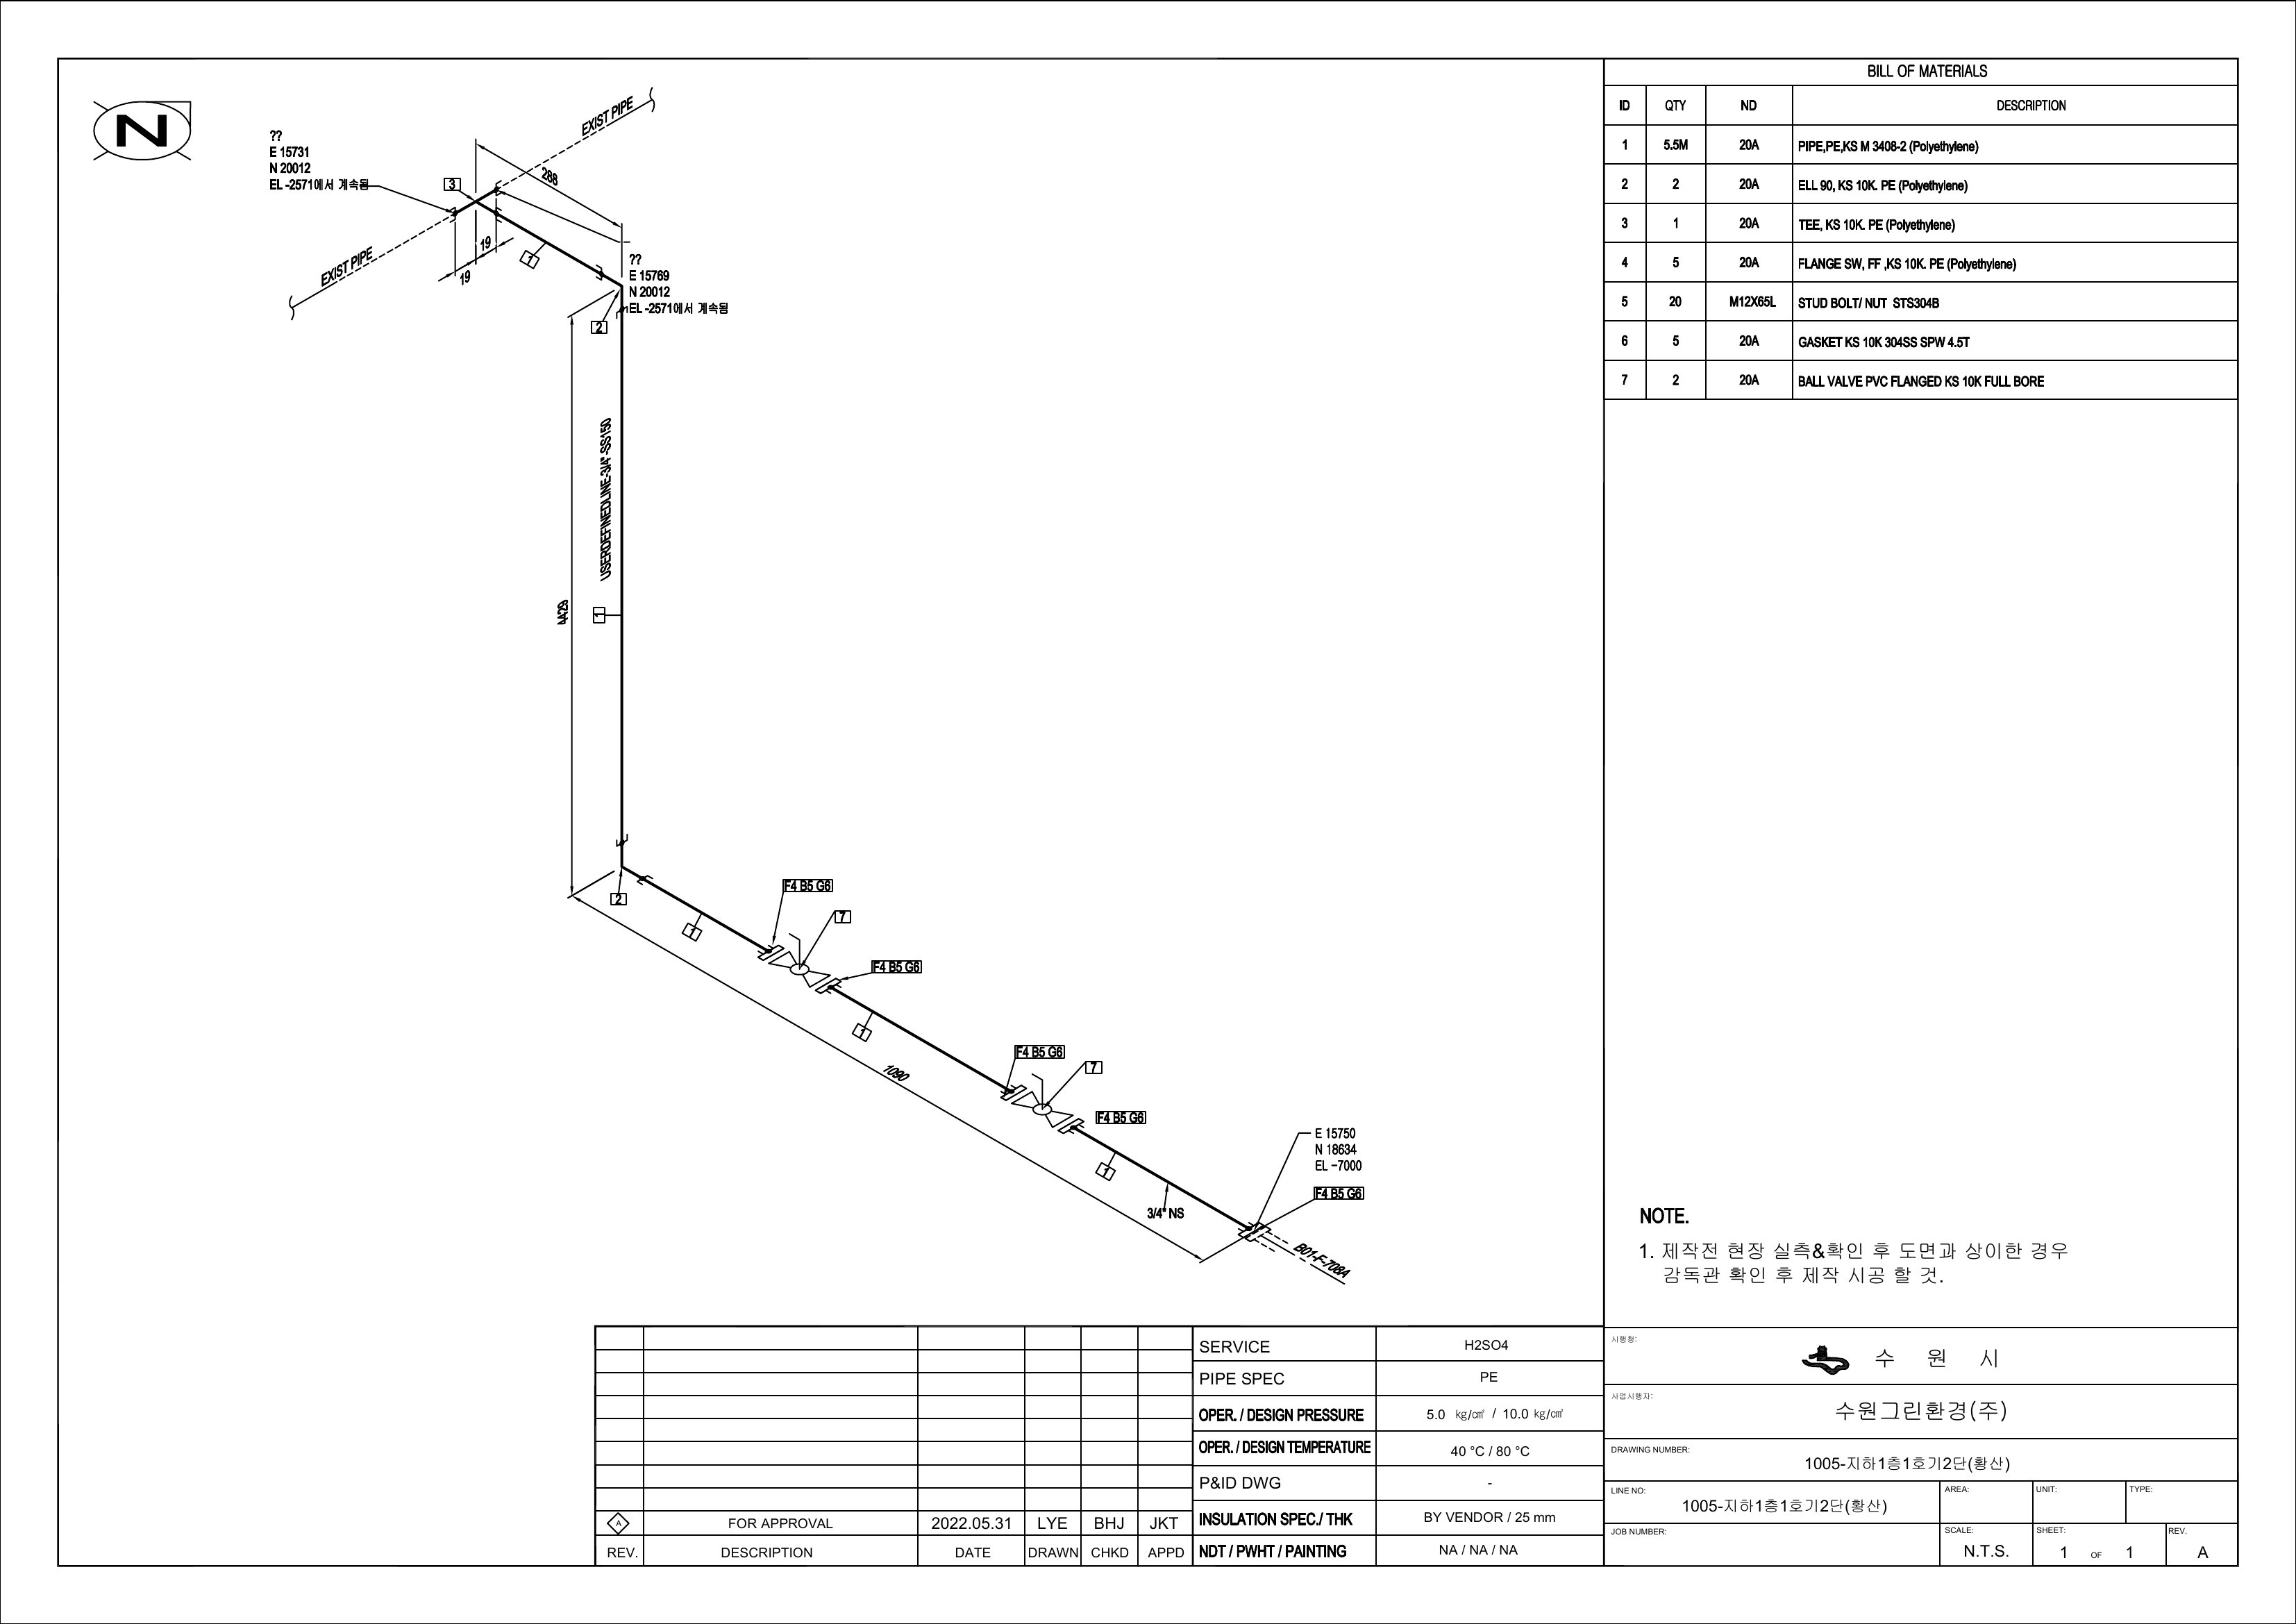table: (1597, 49, 2242, 406)
